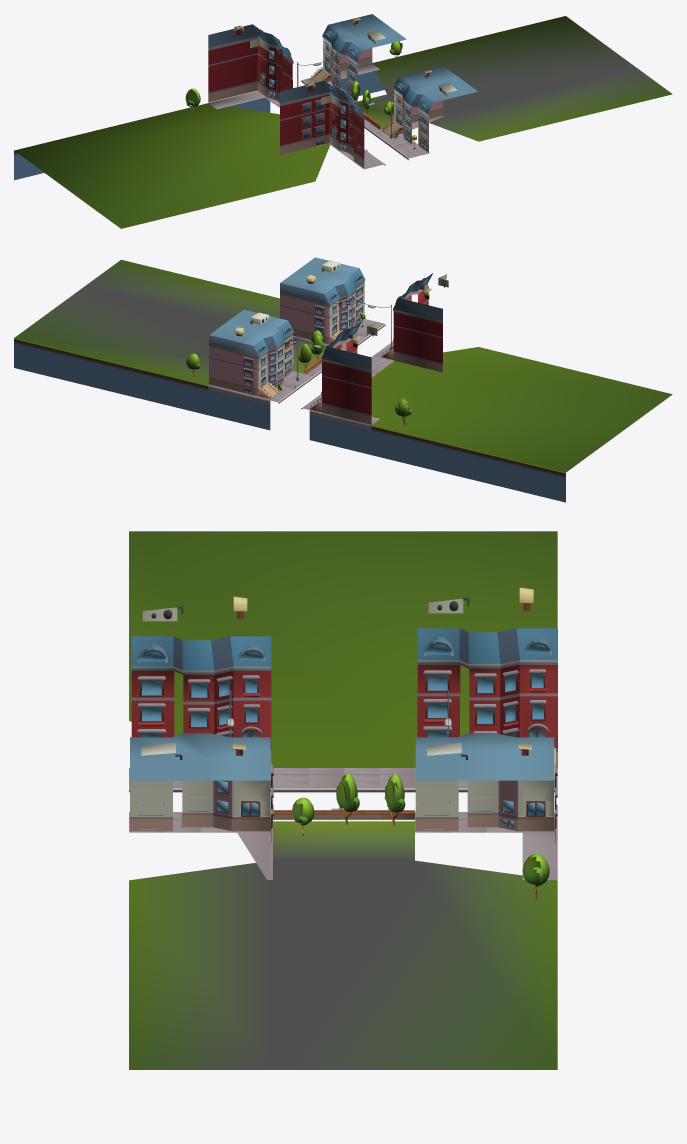
The model's file is Tom1_CityResidentalSet01_30.fbx.
The picture shows the model from 3 angles, top to bottom: view 1: azimuth 30°, elevation 25°; view 2: azimuth 150°, elevation 25°; view 3: azimuth 270°, elevation 25°; orthographic projection. The views are drawn at different scales.
Parts seen in each view (by area): view 1: Tom1_CityResidentalSet01_30; view 2: Tom1_CityResidentalSet01_30; view 3: Tom1_CityResidentalSet01_30.
Part boxes in pixels (box(x1,y1,x2,y2)): Tom1_CityResidentalSet01_30: box(14, 14, 672, 228); Tom1_CityResidentalSet01_30: box(14, 257, 672, 502); Tom1_CityResidentalSet01_30: box(129, 531, 557, 1069).
Size of the model in its own units: 8921 by 1642 by 3001.
